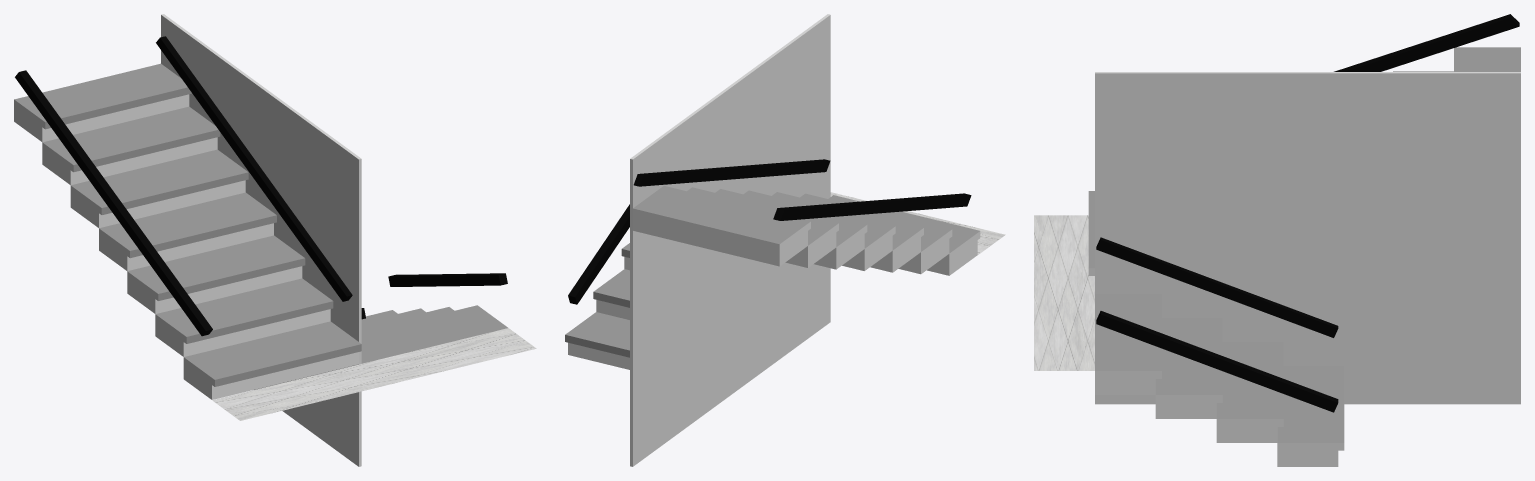
File: stairs4.fbx
3 renders of one model, left to right at view 1: azimuth 30°, elevation 25°; view 2: azimuth 150°, elevation 25°; view 3: azimuth 270°, elevation 25°, orthographic. The views are drawn at different scales.
Parts seen in each view (by area): view 1: StairWall, FloorPlaneWhite, Stairs4, Stairs3, Stairs2, Stairs9, Stairs10, Stairs1, Stairs11, StairPole5, Stairs5, StairPole1 (+2 smaller); view 2: StairWall, Stairs11, Stairs8, StairPole5, StairPole1, Stairs10, Stairs1, Stairs4, Stairs2, Stairs3, Stairs9, StairPole4 (+2 smaller); view 3: StairWall, FloorPlaneWhite, Stairs5, Stairs8, Stairs7, Stairs6, StairPole4, StairPole3, StairPole5, Stairs11, Stairs4.
Boxes of the visible parts, x1,y1,x2,y2 form: StairWall: [161, 14, 361, 466]; FloorPlaneWhite: [212, 328, 536, 420]; Stairs4: [183, 321, 361, 399]; Stairs3: [155, 278, 333, 356]; Stairs2: [127, 235, 305, 313]; Stairs9: [70, 149, 248, 228]; Stairs10: [42, 106, 220, 185]; Stairs1: [99, 192, 276, 271]; Stairs11: [14, 63, 191, 142]; StairPole5: [15, 70, 212, 336]; Stairs5: [361, 305, 507, 363]; StairPole1: [156, 36, 352, 301]; StairWall: [630, 14, 830, 466]; Stairs11: [633, 185, 810, 266]; Stairs8: [565, 312, 629, 369]; StairPole5: [773, 193, 971, 220]; StairPole1: [633, 159, 830, 186]; Stairs10: [687, 187, 838, 267]; Stairs1: [743, 190, 895, 270]; Stairs4: [828, 195, 980, 275]; Stairs2: [772, 192, 923, 272]; Stairs3: [800, 193, 952, 274]; Stairs9: [715, 189, 867, 269]; StairPole4: [568, 204, 629, 304]; StairWall: [1095, 72, 1520, 404]; FloorPlaneWhite: [1034, 215, 1094, 370]; Stairs5: [1095, 294, 1161, 394]; Stairs8: [1277, 366, 1344, 466]; Stairs7: [1216, 342, 1283, 442]; Stairs6: [1155, 318, 1222, 418]; StairPole4: [1096, 311, 1338, 412]; StairPole3: [1096, 237, 1338, 337]; StairPole5: [1334, 14, 1519, 71]; Stairs11: [1454, 47, 1520, 71]; Stairs4: [1088, 191, 1094, 275].
Size of the model in its own units: 6.06 by 6 by 8.
